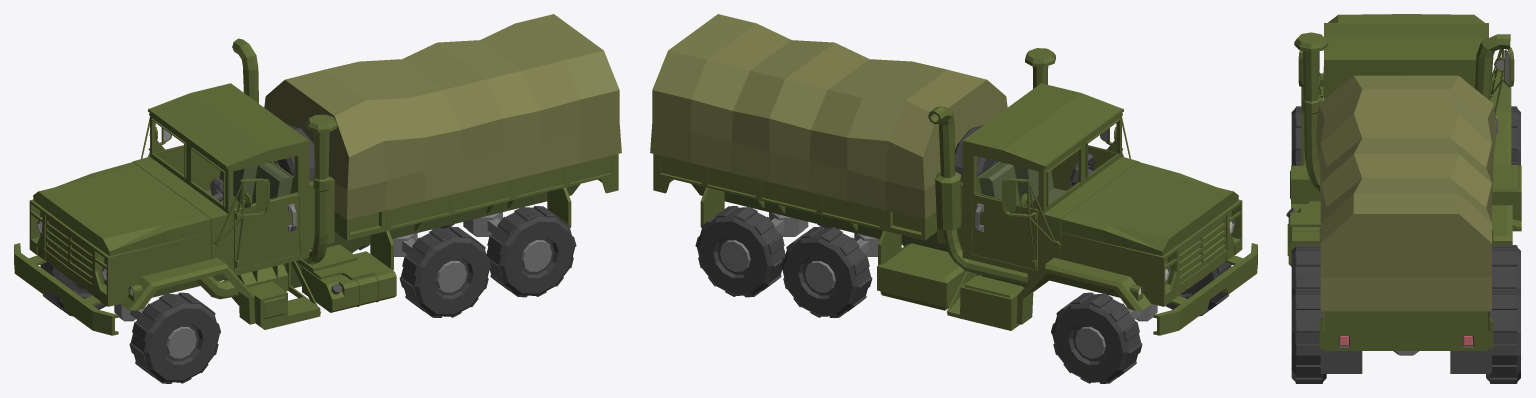
3 renders of one model, left to right at view 1: azimuth 30°, elevation 25°; view 2: azimuth 150°, elevation 25°; view 3: azimuth 270°, elevation 25°, orthographic. The views are drawn at different scales.
Visible parts, largest first — view 1: Main, front_left_wheel, middle_left_wheel, back_left_wheel, front_right_wheel; view 2: Main, front_right_wheel, middle_right_wheel, back_right_wheel, front_left_wheel; view 3: Main, back_left_wheel, back_right_wheel, middle_left_wheel, middle_right_wheel, front_left_wheel, front_right_wheel.
Boxes of the visible parts, x1,y1,x2,y2 form: Main: (14, 14, 621, 335); front_left_wheel: (129, 292, 220, 383); middle_left_wheel: (399, 226, 491, 317); back_left_wheel: (486, 206, 576, 297); front_right_wheel: (40, 262, 106, 316); Main: (650, 14, 1257, 335); front_right_wheel: (1051, 292, 1142, 383); middle_right_wheel: (780, 226, 872, 317); back_right_wheel: (695, 206, 785, 297); front_left_wheel: (1165, 262, 1231, 316); Main: (1286, 14, 1521, 373); back_left_wheel: (1291, 288, 1326, 383); back_right_wheel: (1486, 288, 1520, 383); middle_left_wheel: (1291, 245, 1320, 294); middle_right_wheel: (1492, 245, 1520, 293); front_left_wheel: (1291, 106, 1301, 165); front_right_wheel: (1511, 106, 1520, 165).
Size of the model in its own units: 7.26 by 3.05 by 2.67.
